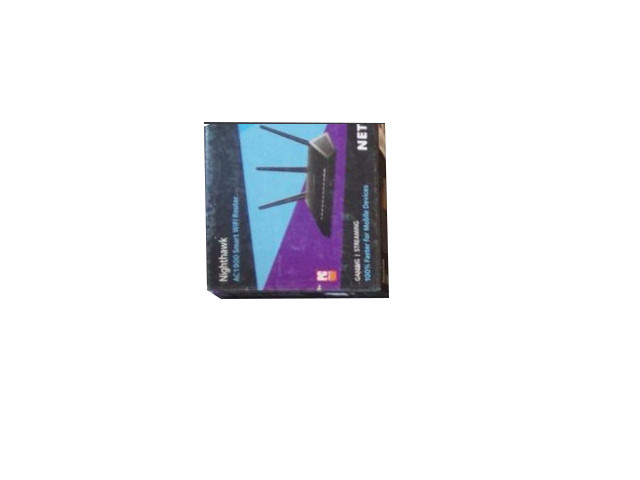cardboard: (205, 127, 389, 299)
